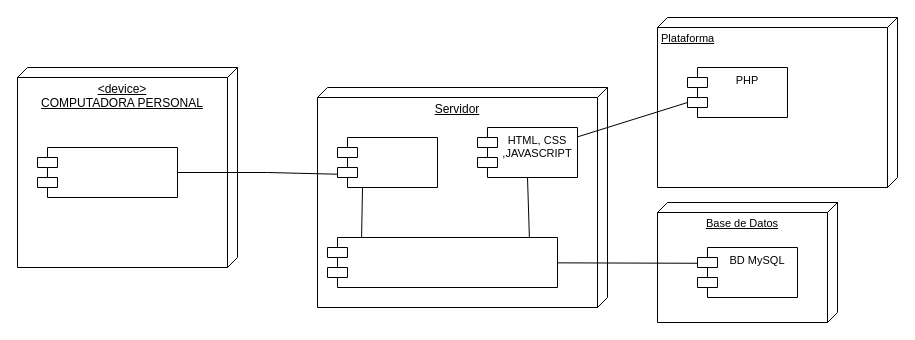
Some shapes in this 915 by 340 pixel diagram are drawn without their labels. The centre of each missing label's shape, as x and y in pixels:
"<WEB BROWSER>" goes at pixel 107 172.
"Interfaz BD" goes at pixel 442 262.
"XAMPP" goes at pixel 387 162.
